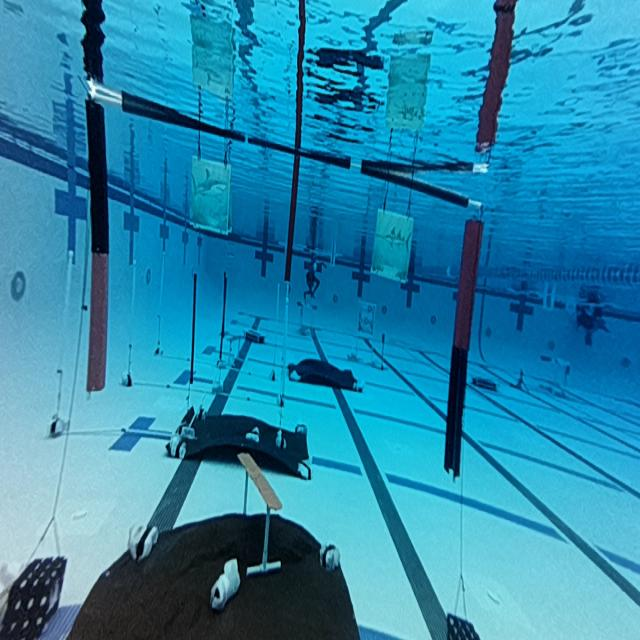pointed_nose: (374, 209, 411, 289)
round_nose: (189, 153, 233, 238)
